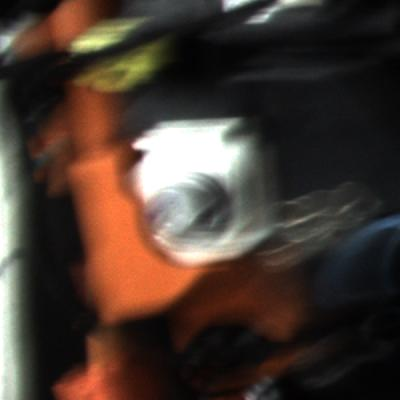nut_b: (138, 166, 242, 255)
